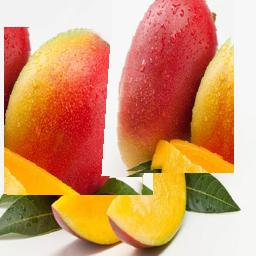Mango Fresh: (5, 28, 154, 196), (112, 0, 234, 173)
